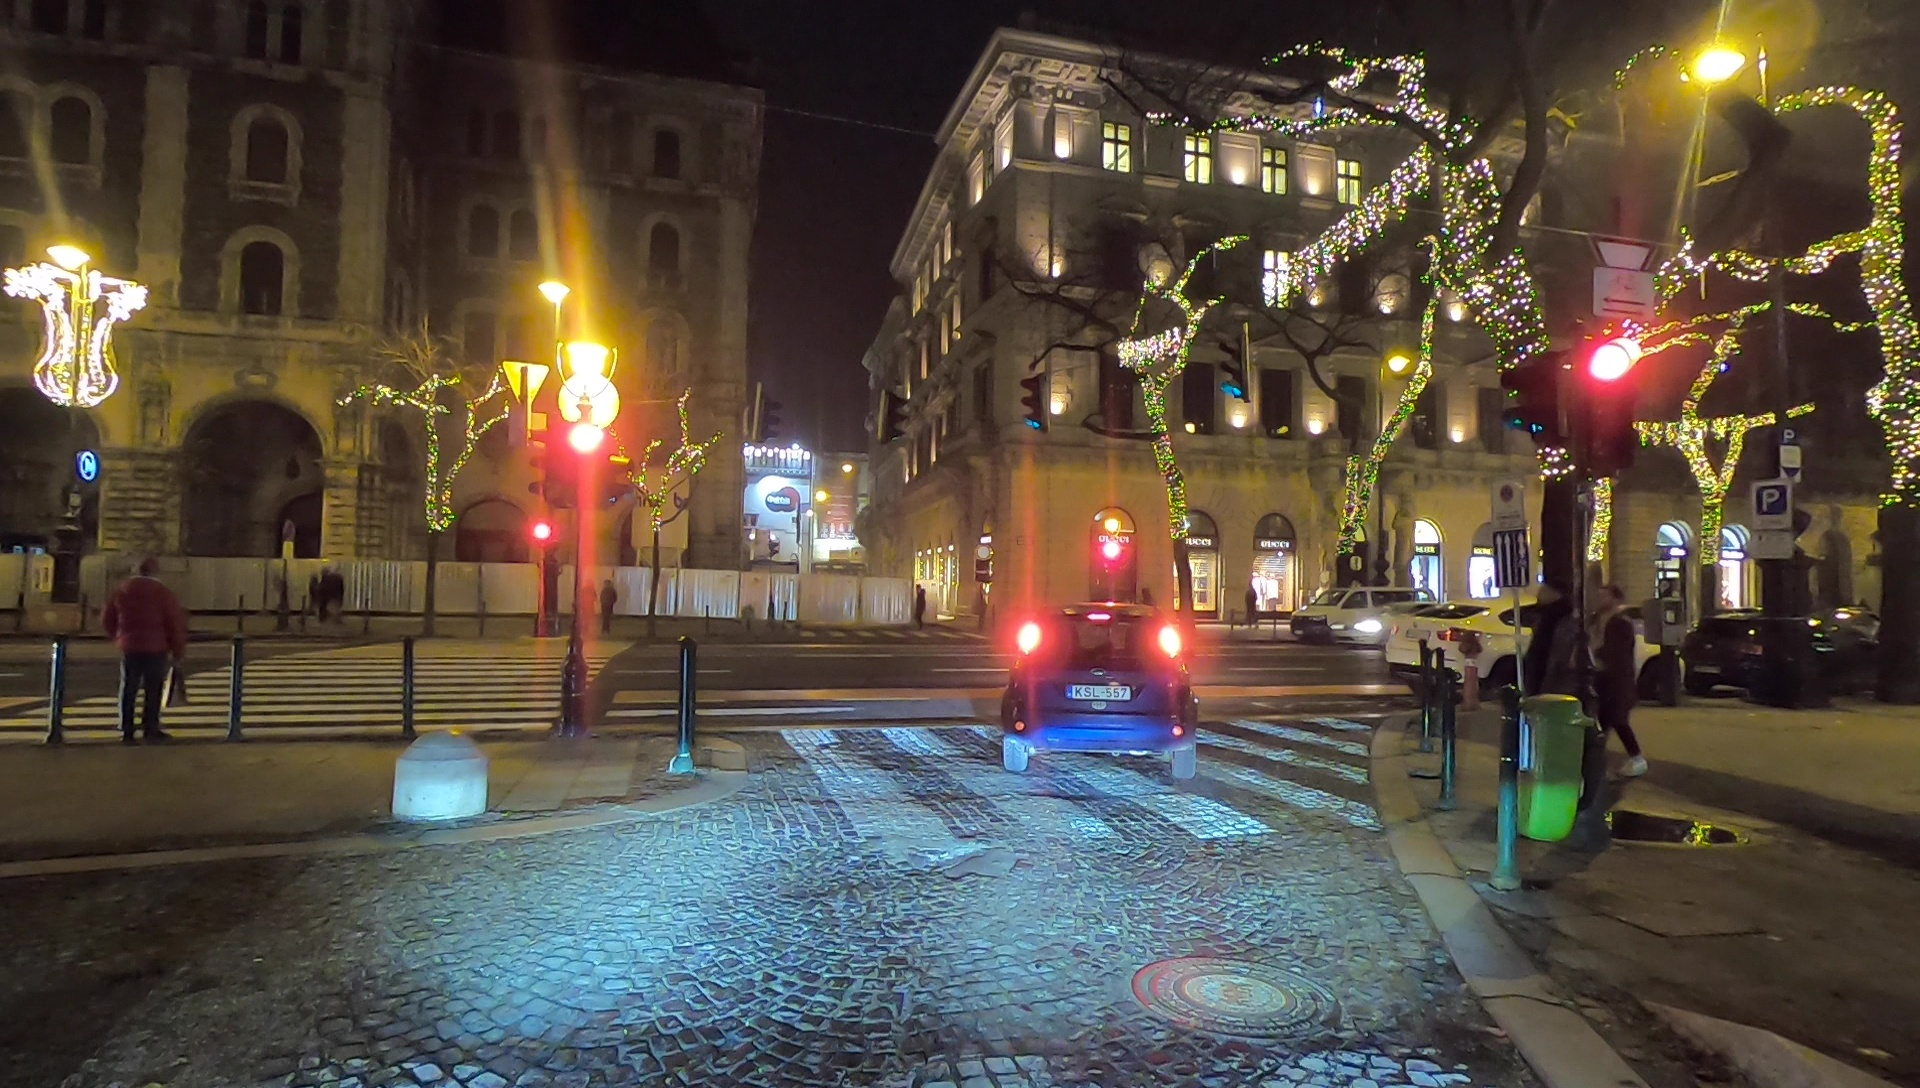person: (100, 560, 190, 742), (1527, 567, 1585, 787), (1584, 582, 1647, 778), (322, 562, 344, 625), (573, 579, 595, 640), (300, 572, 322, 629), (601, 577, 618, 633), (911, 583, 928, 628), (1244, 586, 1256, 626)
